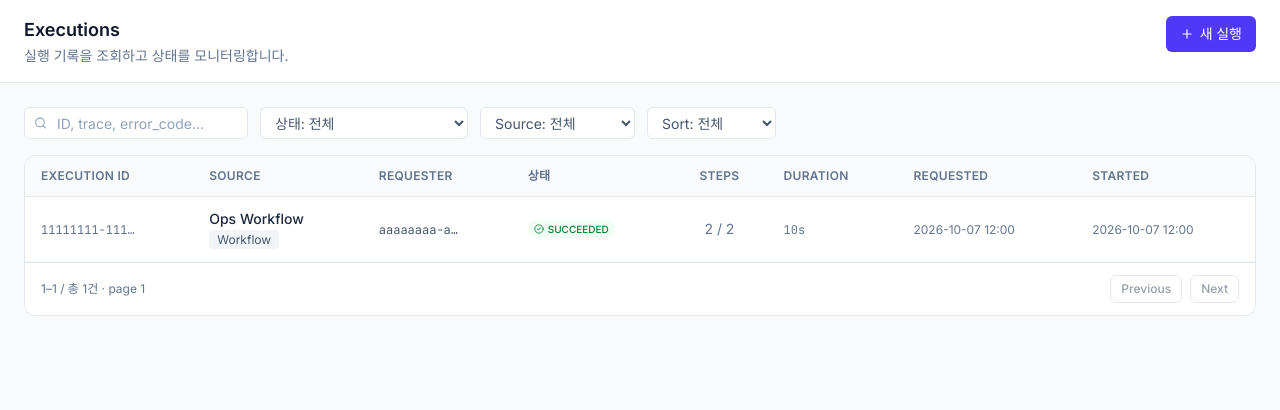
Test case: Ops screens real API wiring › Executions list/filter/pagination and empty/error states
Expected: the text "Ops Workflow" is shown, [209, 210, 304, 227]
Expected: the text "2 / 2" is shown, [704, 220, 734, 237]
Select "FAILED" in the 1st dropdown showing "상태: 전체" at (364, 123), box [260, 107, 468, 139]
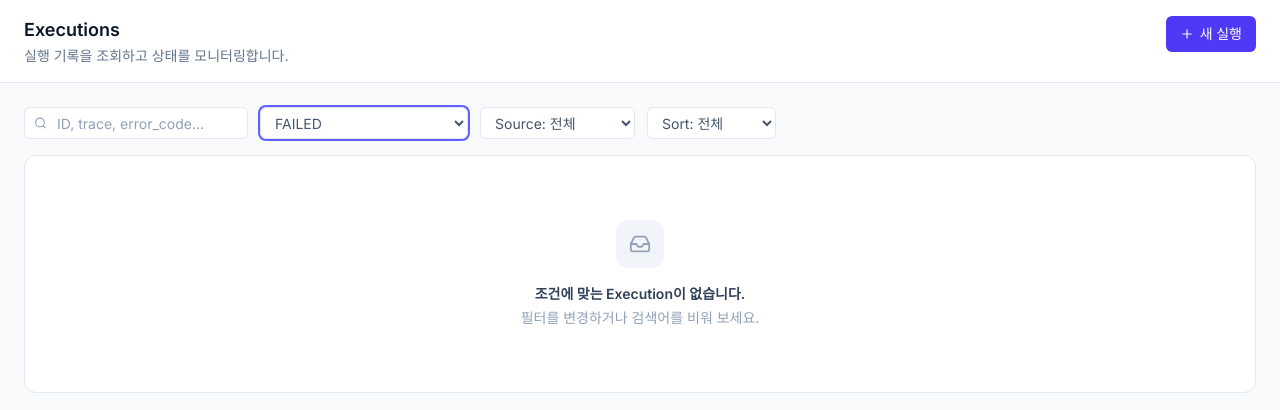
Now the heading "조건에 맞는 Execution이 없습니다." is shown, box [535, 284, 745, 304]
